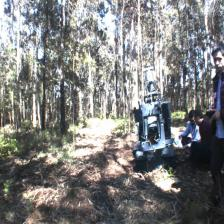trunktrack_idkeyframe: (60, 86, 66, 134)
